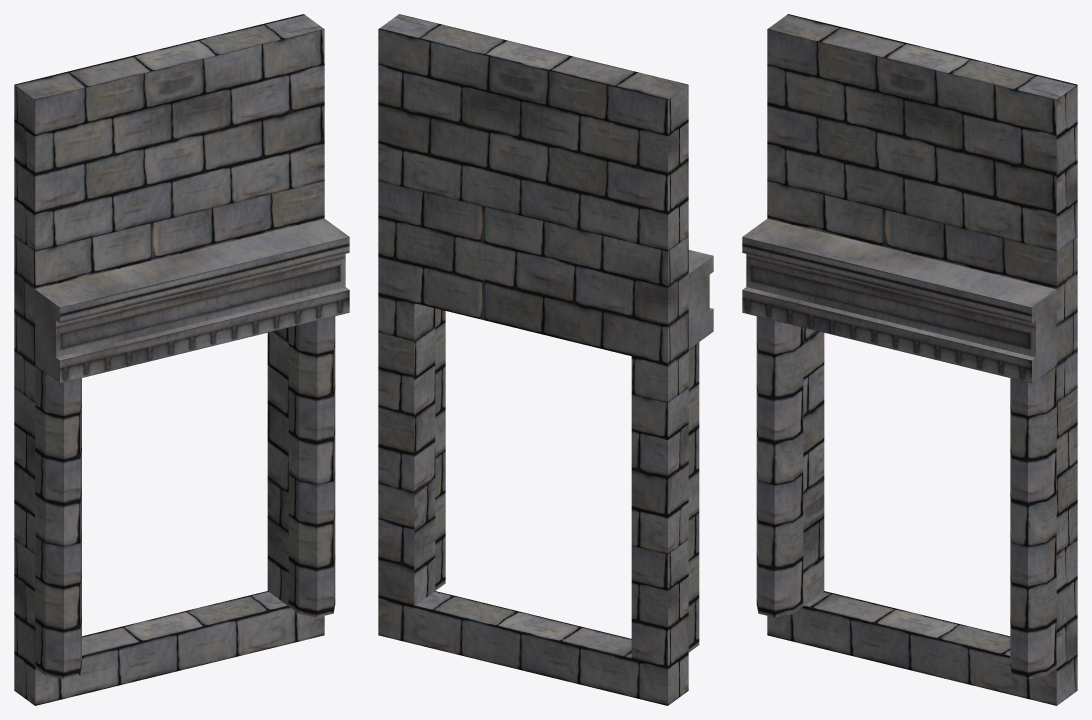
Rendered from sanctum_doorway_01.fbx.
3 views of the same model, side by side, from view 1: azimuth 30°, elevation 25°; view 2: azimuth 150°, elevation 25°; view 3: azimuth 330°, elevation 25° (orthographic).
Visible parts, largest first — view 1: sanctum_doorway_01; view 2: sanctum_doorway_01; view 3: sanctum_doorway_01.
Boxes of the visible parts, x1=… form: sanctum_doorway_01: x1=14, y1=14, x2=349, y2=705; sanctum_doorway_01: x1=378, y1=14, x2=713, y2=705; sanctum_doorway_01: x1=742, y1=14, x2=1077, y2=705.
Bounding box in the file's own units: 800 × 1600 × 219.
